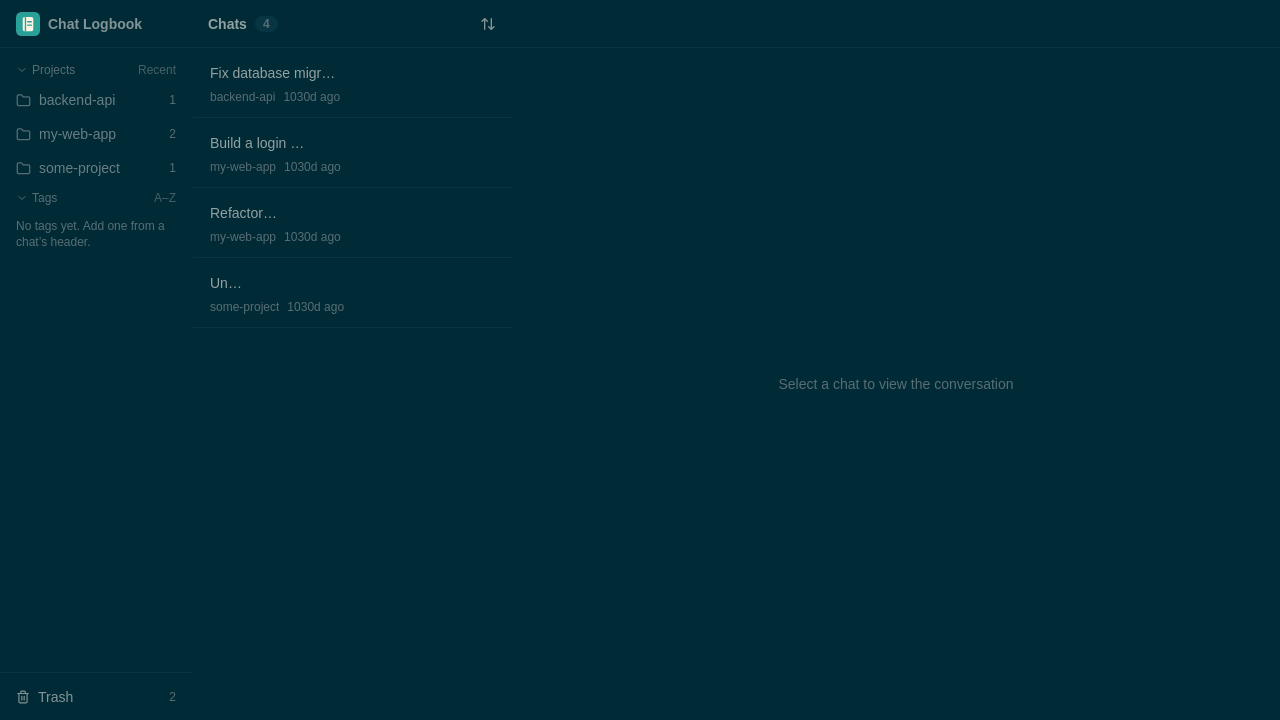
Test: Soft delete from chat list › removes the session from the list and moves it to Trash
This screenshot has width=1280, height=720.
// Deleting a single chat lives in the row's right-click menu (#215).
Right-click the text "Fix database migration" at (275, 73), box [204,61,346,85]
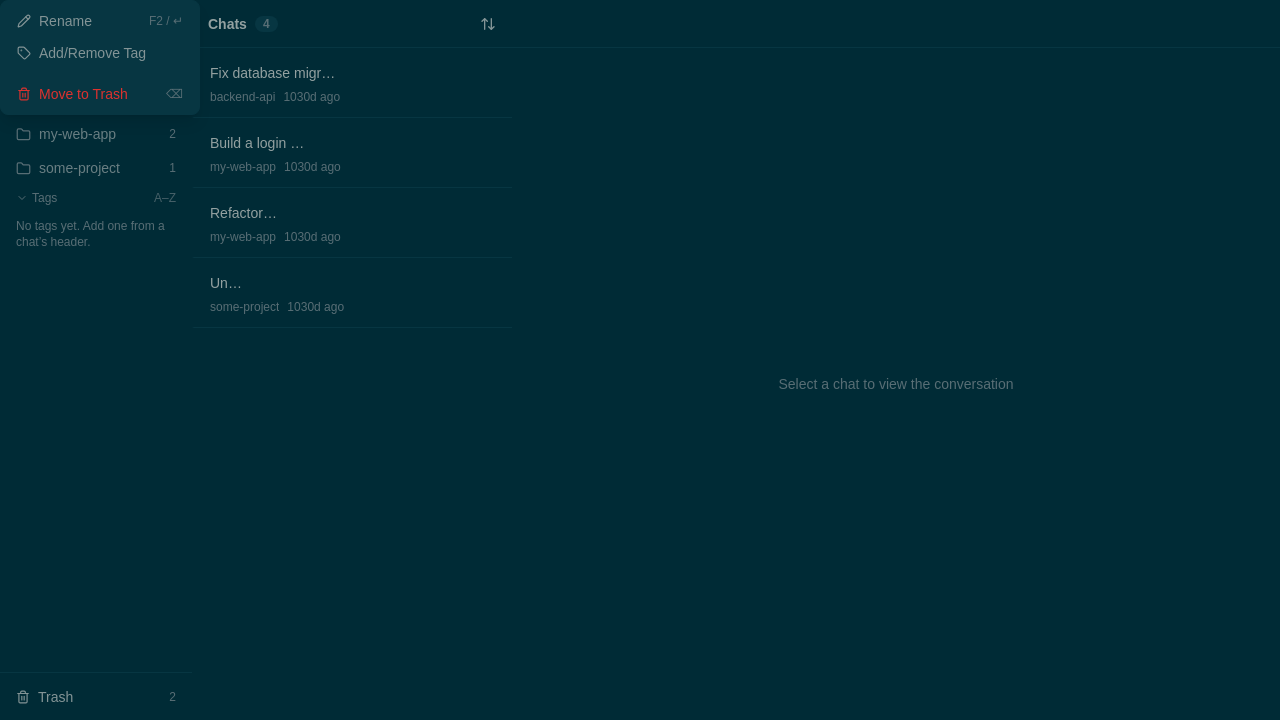
Click the menu item "Move to Trash ⌫" at (100, 94), box [5,78,195,110]
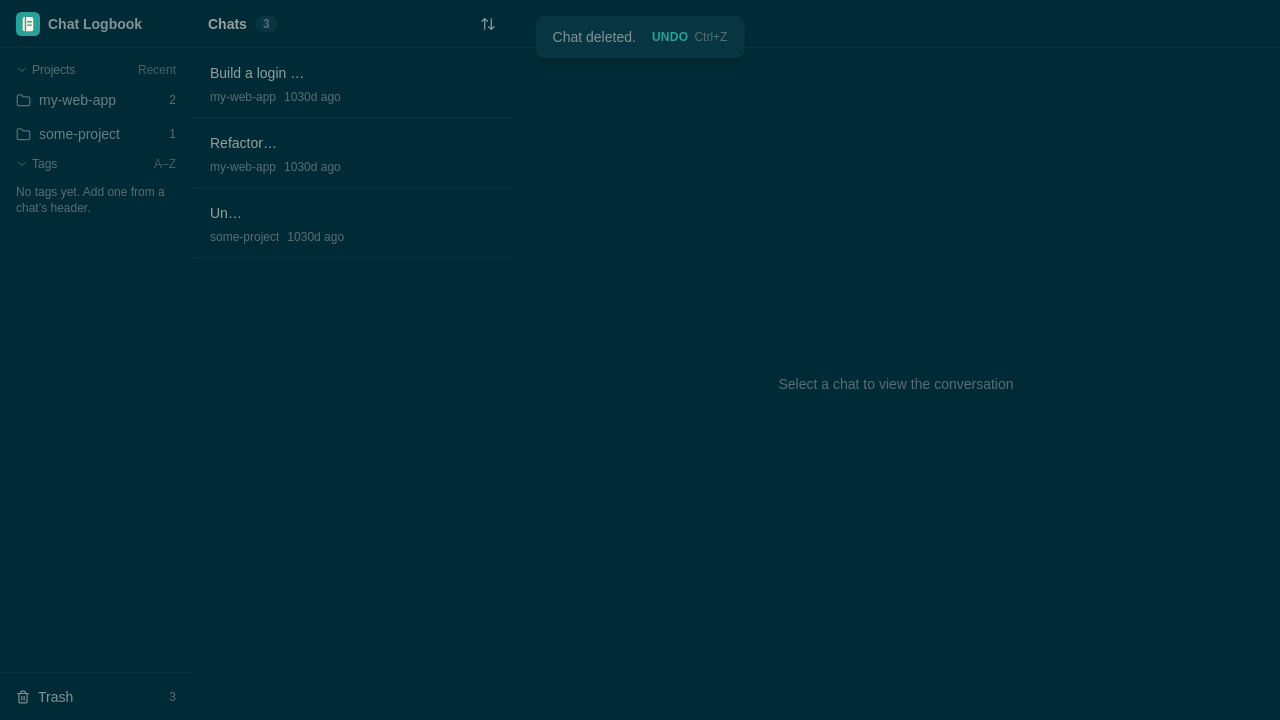
Check: the button "Fix database migration" is gone
Click the button with test id "trash-link" at (96, 696), box [8,680,184,712]
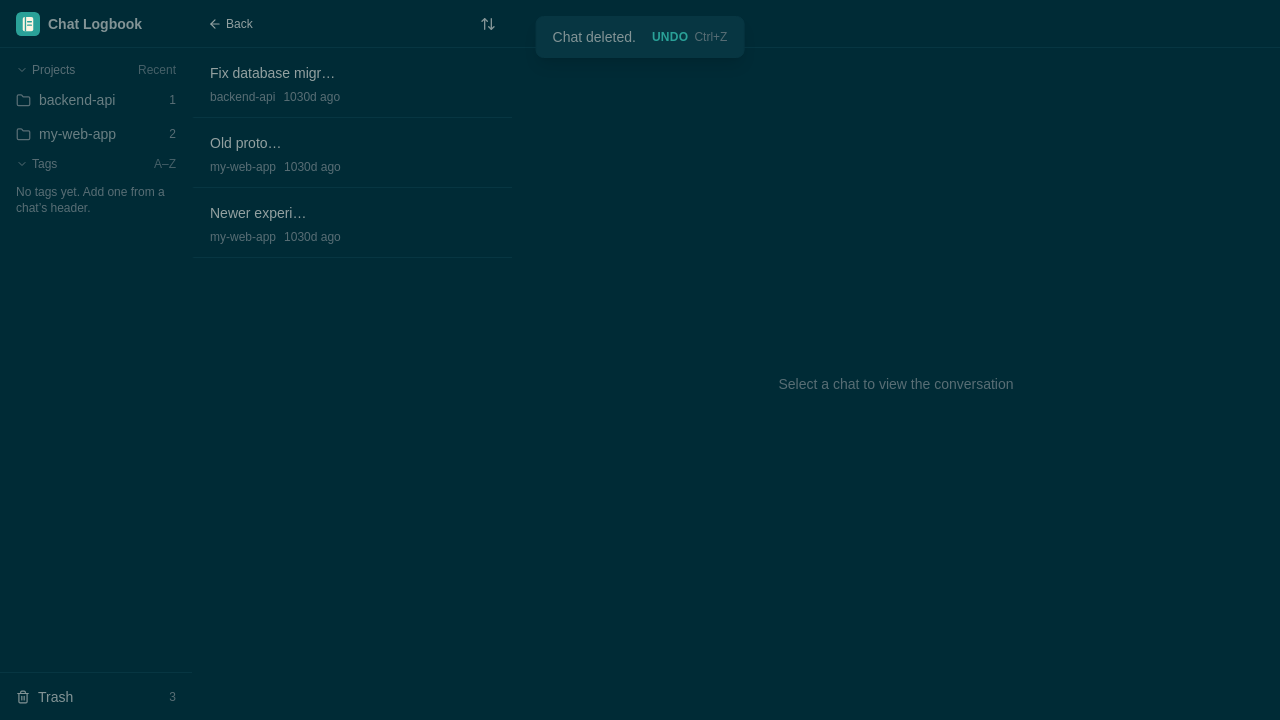
Check: the text "Fix database migration" is shown, box [204,61,346,85]
